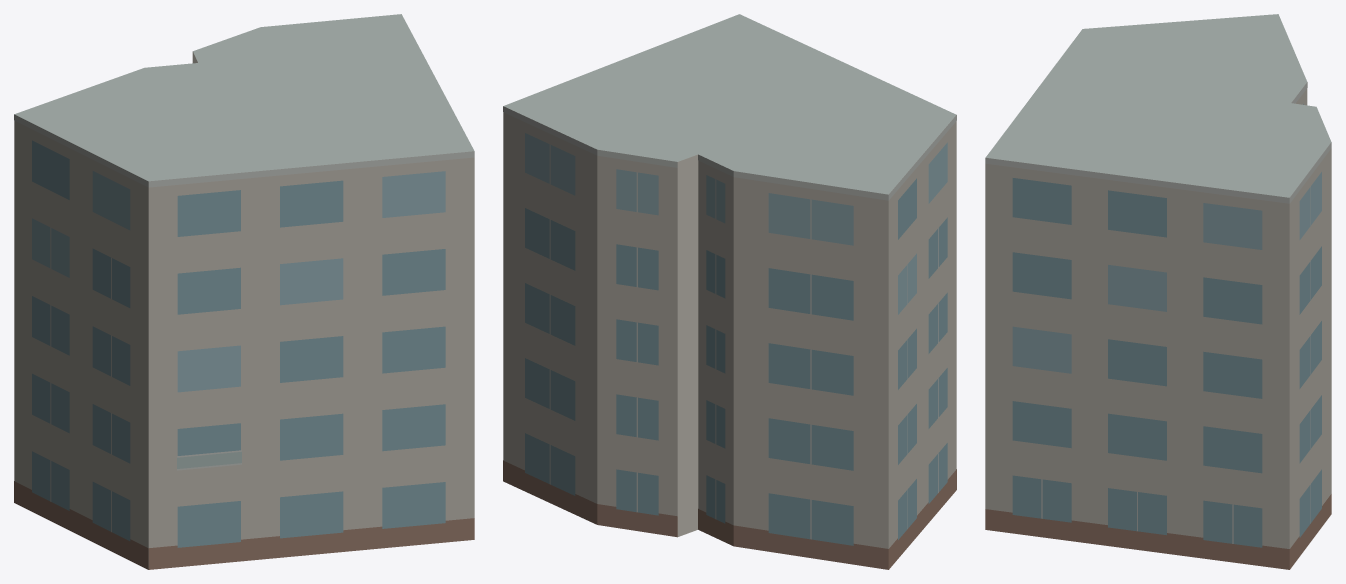
File: survey-upis-32841748.glb
The picture shows the model from 3 angles, left to right: view 1: azimuth 30°, elevation 25°; view 2: azimuth 150°, elevation 25°; view 3: azimuth 270°, elevation 25°; orthographic projection. The views are drawn at different scales.
Visible parts, largest first — view 1: survey-upis-32841748.tmp; view 2: survey-upis-32841748.tmp; view 3: survey-upis-32841748.tmp.
Boxes of the visible parts, x1=… form: survey-upis-32841748.tmp: x1=14, y1=14, x2=474, y2=569; survey-upis-32841748.tmp: x1=503, y1=14, x2=956, y2=569; survey-upis-32841748.tmp: x1=985, y1=14, x2=1331, y2=569.
Size of the model in its own units: 16.06 by 15.15 by 12.78.
